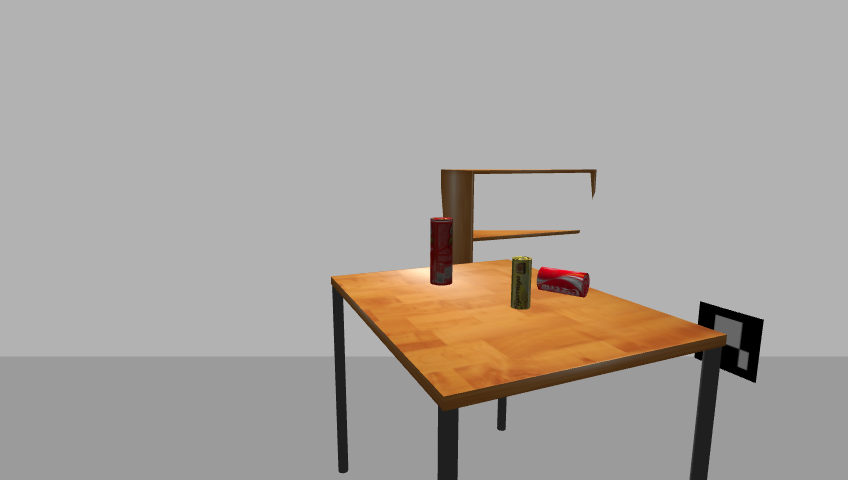aruco marker: (690, 301, 768, 384)
biscuits pack: (509, 257, 533, 311)
bookshelf: (436, 165, 602, 332)
coke can: (535, 266, 592, 299)
dinner table: (325, 260, 733, 480)
pringles can: (427, 216, 455, 287)
